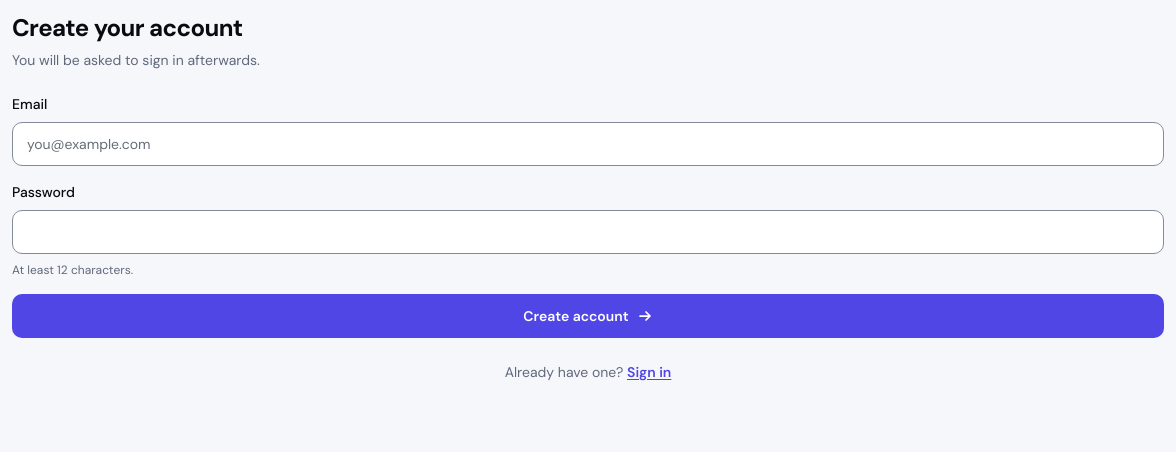
Test: the registration form › shows the policy the server refused with, rather than one of its own
The image size is (1176, 452).
Step 1. Type "new@marketcore.test" into the field labelled "Email" → x=588, y=144, box [12, 122, 1164, 166]
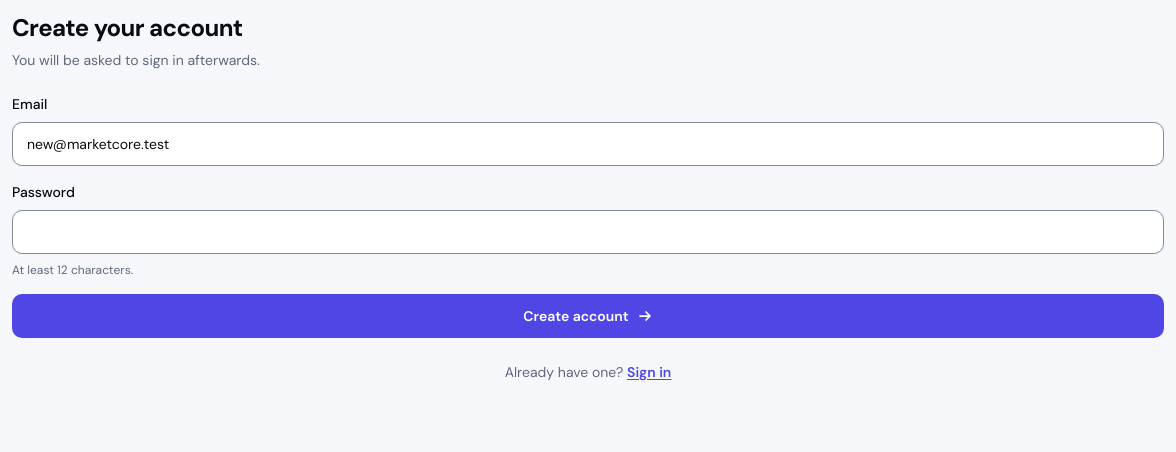
Step 2. Type "short" into the password field labelled "Password" → x=588, y=232, box [12, 210, 1164, 254]
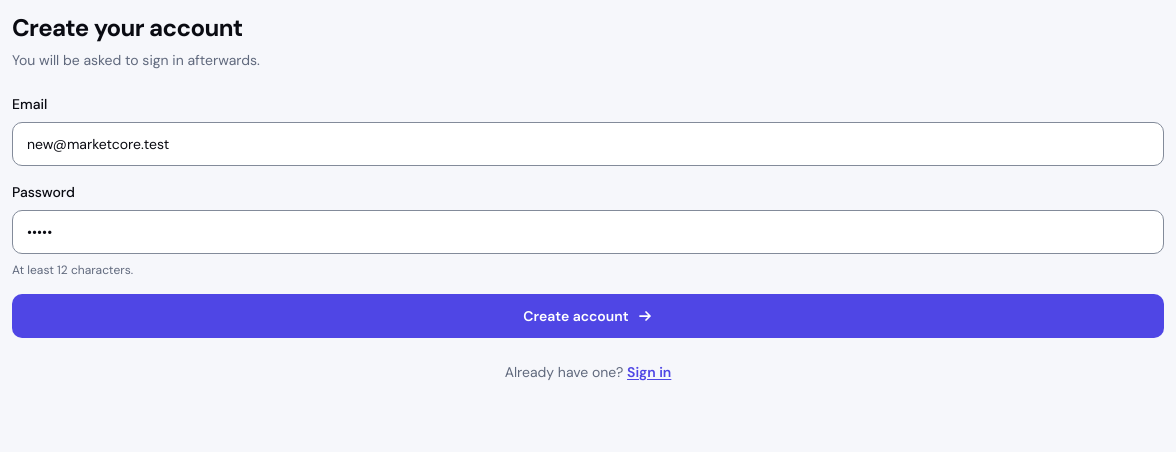
Step 3. Click the button "Create account" → x=588, y=316, box [12, 294, 1164, 338]
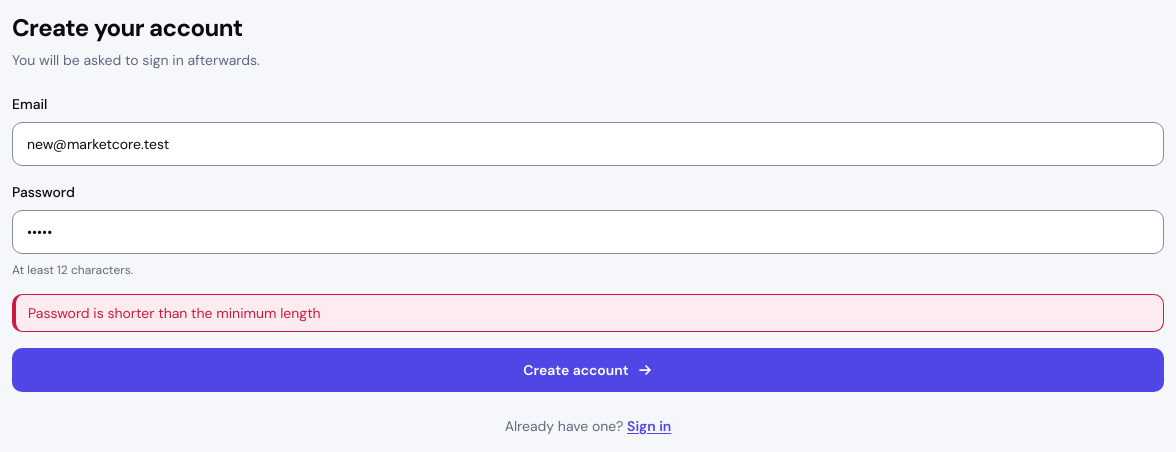
expect the text "Password is shorter than the minimum length" is shown: met, box [12, 294, 1164, 332]
